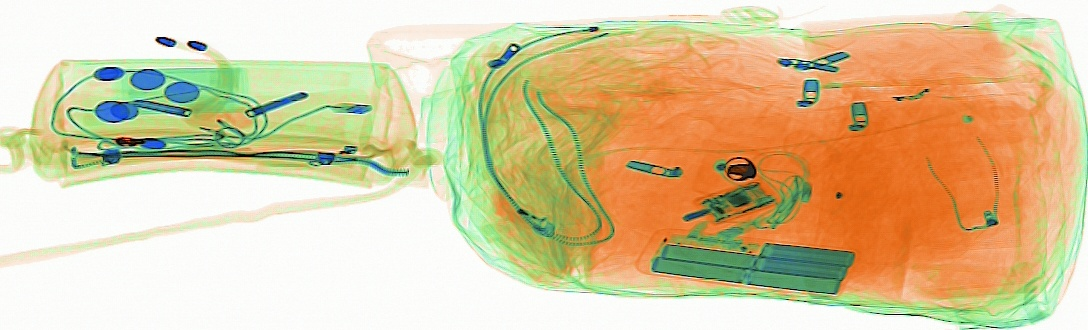lighter: (476, 186, 555, 236)
powerbank: (638, 226, 855, 297)
